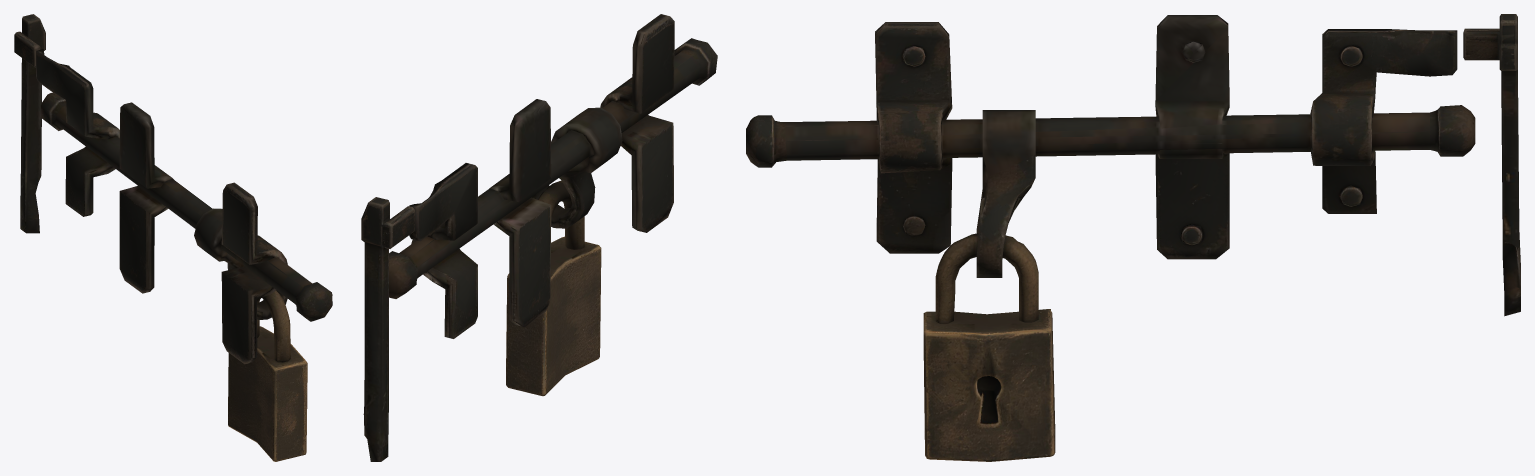
Rendered from Lock door.fbx.
3 renders of one model, left to right at view 1: azimuth 30°, elevation 25°; view 2: azimuth 150°, elevation 25°; view 3: azimuth 270°, elevation 25°, orthographic. The views are drawn at different scales.
Parts seen in each view (by area): view 1: tripo_node_6e8bb483-cd34-4b25-b436-2092ddf3e98b; view 2: tripo_node_6e8bb483-cd34-4b25-b436-2092ddf3e98b; view 3: tripo_node_6e8bb483-cd34-4b25-b436-2092ddf3e98b.
Part boxes in pixels (x1,y1,x2,y2): tripo_node_6e8bb483-cd34-4b25-b436-2092ddf3e98b: (14,14,332,461); tripo_node_6e8bb483-cd34-4b25-b436-2092ddf3e98b: (361,14,717,461); tripo_node_6e8bb483-cd34-4b25-b436-2092ddf3e98b: (746,14,1520,461).
Size of the model in its own units: 16.6 by 57.23 by 99.8.
Materials: 1 (1 with a texture image).
